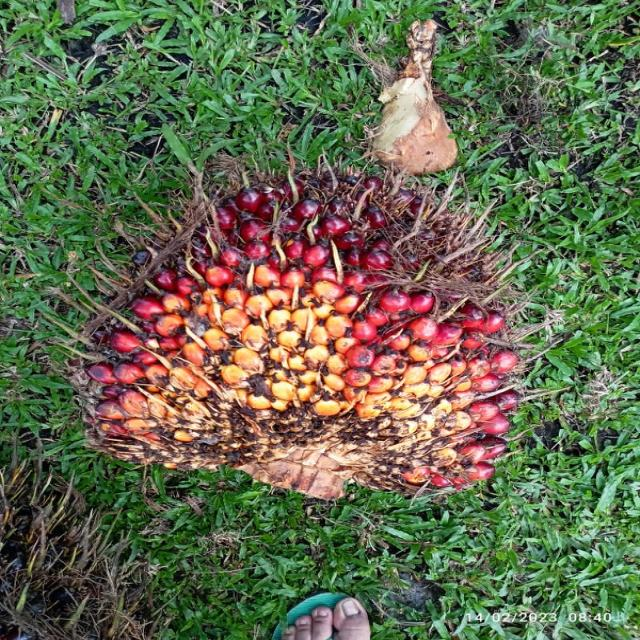fraksi 3: (82, 179, 526, 493)
